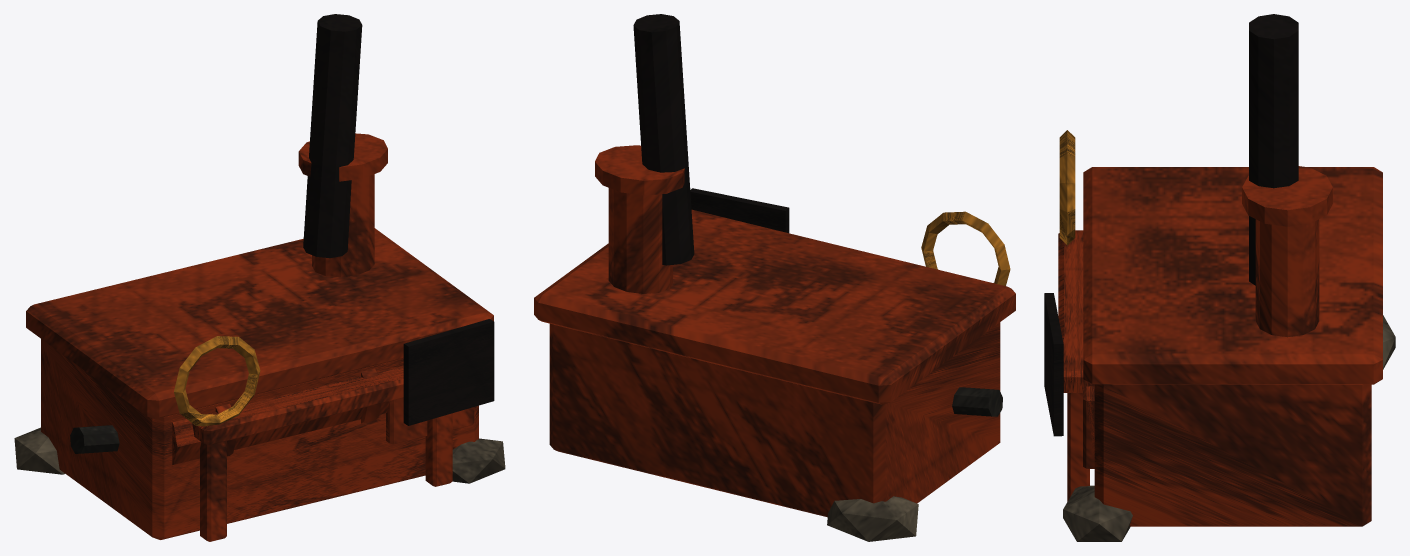
The model's file is spent-boiler-east.glb.
The picture shows the model from 3 angles, left to right: view 1: azimuth 30°, elevation 25°; view 2: azimuth 150°, elevation 25°; view 3: azimuth 270°, elevation 25°; orthographic projection. The views are drawn at different scales.
Visible parts, largest first — view 1: spent-boiler-east; view 2: spent-boiler-east; view 3: spent-boiler-east.
Boxes of the visible parts, box(x1,y1,x2,y2) form: spent-boiler-east: box(14, 14, 505, 541); spent-boiler-east: box(534, 14, 1015, 541); spent-boiler-east: box(1044, 14, 1395, 541).
Bounding box in the file's own units: 5.35 × 5.52 × 3.63.
1 material, 1 textured.
